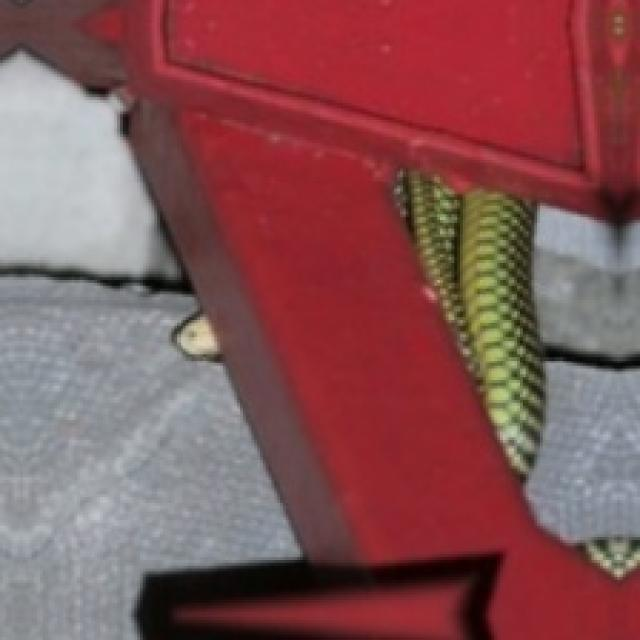paradise tree snake: (394, 171, 543, 477)
